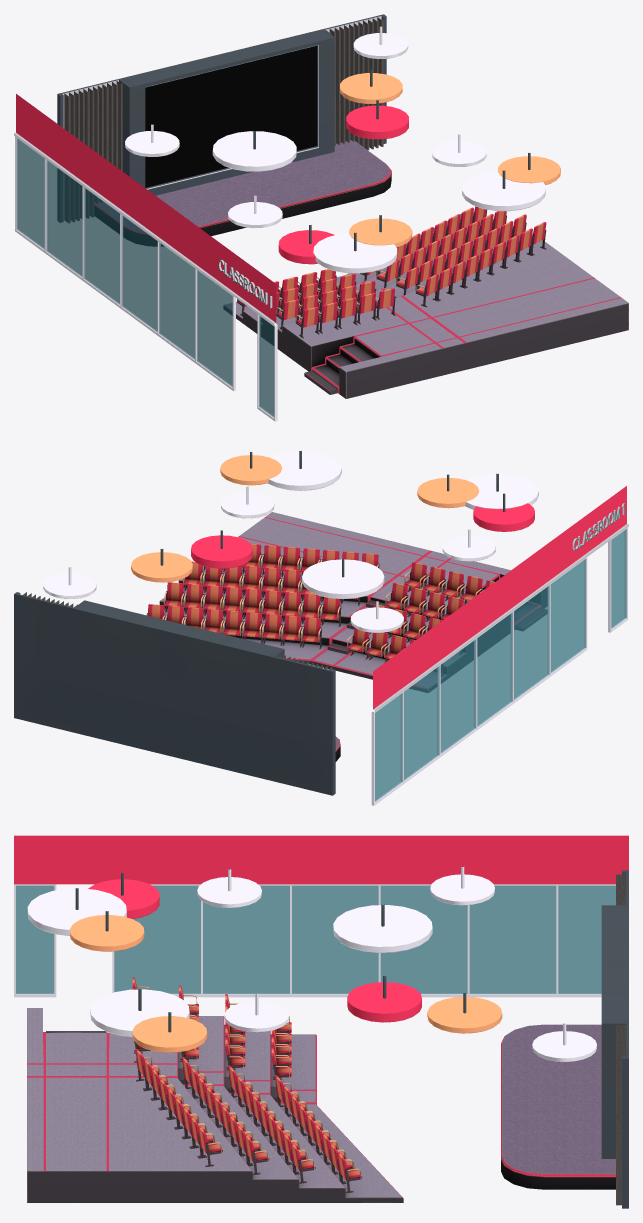
The model's file is TeachingCommunityInteriorTeachingRoom01.glb.
3 renders of one model, top to bottom at view 1: azimuth 30°, elevation 25°; view 2: azimuth 150°, elevation 25°; view 3: azimuth 270°, elevation 25°, orthographic. The views are drawn at different scales.
Visible parts, largest first — view 1: TCV_TeachingRoomScreen, TCV_ExampleTeachingRoomChairsStage1, TCV_TeachingRoomGlass, TCV_TeachingRoomWindowFrames, TCV_TeachingRoomRoofDetail, TCV_ExampleTeachingRoomStage1.001, TCV_TeachingRoom.001, TCV_ExampleTeachingRoomStage1, ClassRoom1Sign; view 2: TCV_TeachingRoomScreen, TCV_TeachingRoomGlass, TCV_TeachingRoomRoofDetail, TCV_TeachingRoomWindowFrames, TCV_ExampleTeachingRoomChairsStage1, TCV_TeachingRoom.001, ClassRoom1Sign, TCV_TeachingRoomSeats_20.001, TCV_TeachingRoomSeats_22.001, TCV_TeachingRoomSeats_21.001, TCV_TeachingRoomSeats_23.001; view 3: TCV_TeachingRoomGlass, TCV_ExampleTeachingRoomChairsStage1, TCV_TeachingRoomWindowFrames, TCV_TeachingRoomRoofDetail, TCV_ExampleTeachingRoomStage1.001, TCV_TeachingRoomScreen, TCV_TeachingRoom.001, TCV_ExampleTeachingRoomStage1.
Boxes of the visible parts, box(x1,y1,x2,y2) form: TCV_TeachingRoomScreen: box(57, 14, 386, 222); TCV_ExampleTeachingRoomChairsStage1: box(223, 212, 628, 398); TCV_TeachingRoomGlass: box(16, 138, 274, 417); TCV_TeachingRoomWindowFrames: box(14, 94, 277, 421); TCV_TeachingRoomRoofDetail: box(212, 69, 560, 273); TCV_ExampleTeachingRoomStage1.001: box(94, 140, 390, 245); TCV_TeachingRoom.001: box(125, 26, 486, 228); TCV_ExampleTeachingRoomStage1: box(135, 165, 391, 246); ClassRoom1Sign: box(218, 260, 272, 308); TCV_TeachingRoomScreen: box(14, 592, 335, 795); TCV_TeachingRoomGlass: box(374, 529, 626, 801); TCV_TeachingRoomRoofDetail: box(131, 451, 538, 599); TCV_TeachingRoomWindowFrames: box(371, 486, 628, 805); TCV_ExampleTeachingRoomChairsStage1: box(159, 512, 547, 692); TCV_TeachingRoom.001: box(43, 486, 495, 632); ClassRoom1Sign: box(572, 503, 624, 550); TCV_TeachingRoomSeats_20.001: box(301, 617, 321, 648); TCV_TeachingRoomSeats_22.001: box(261, 614, 282, 645); TCV_TeachingRoomSeats_21.001: box(281, 615, 302, 647); TCV_TeachingRoomSeats_23.001: box(242, 612, 263, 643); TCV_TeachingRoomGlass: box(16, 885, 615, 994); TCV_ExampleTeachingRoomChairsStage1: box(27, 1008, 403, 1202); TCV_TeachingRoomWindowFrames: box(14, 835, 628, 997); TCV_TeachingRoomRoofDetail: box(27, 873, 502, 1052); TCV_ExampleTeachingRoomStage1.001: box(501, 1024, 615, 1175); TCV_TeachingRoomScreen: box(601, 870, 628, 1208); TCV_TeachingRoom.001: box(197, 866, 596, 1061); TCV_ExampleTeachingRoomStage1: box(501, 1158, 615, 1189).
Size of what is drawn, in the model's own units: 15.56 by 5.78 by 18.96.
Materials: 7 (6 with a texture image).
